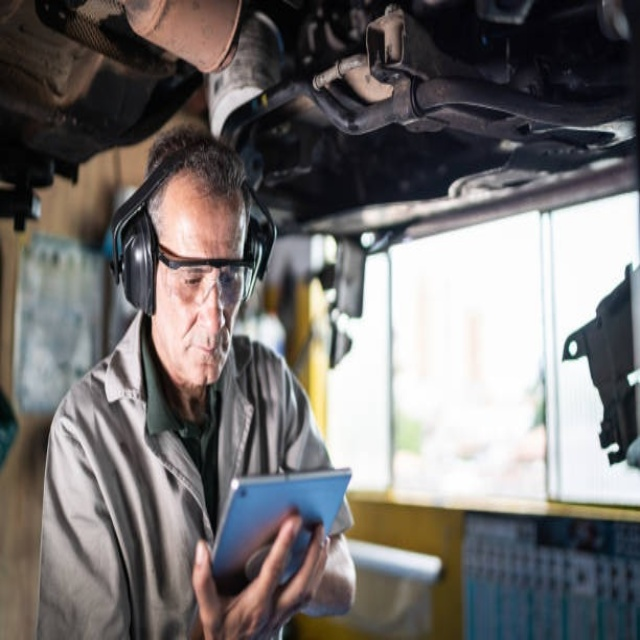Gafas: (155, 243, 256, 310)
Sin_guantes: (193, 504, 329, 640)
Sin_mascara: (179, 329, 227, 387)
